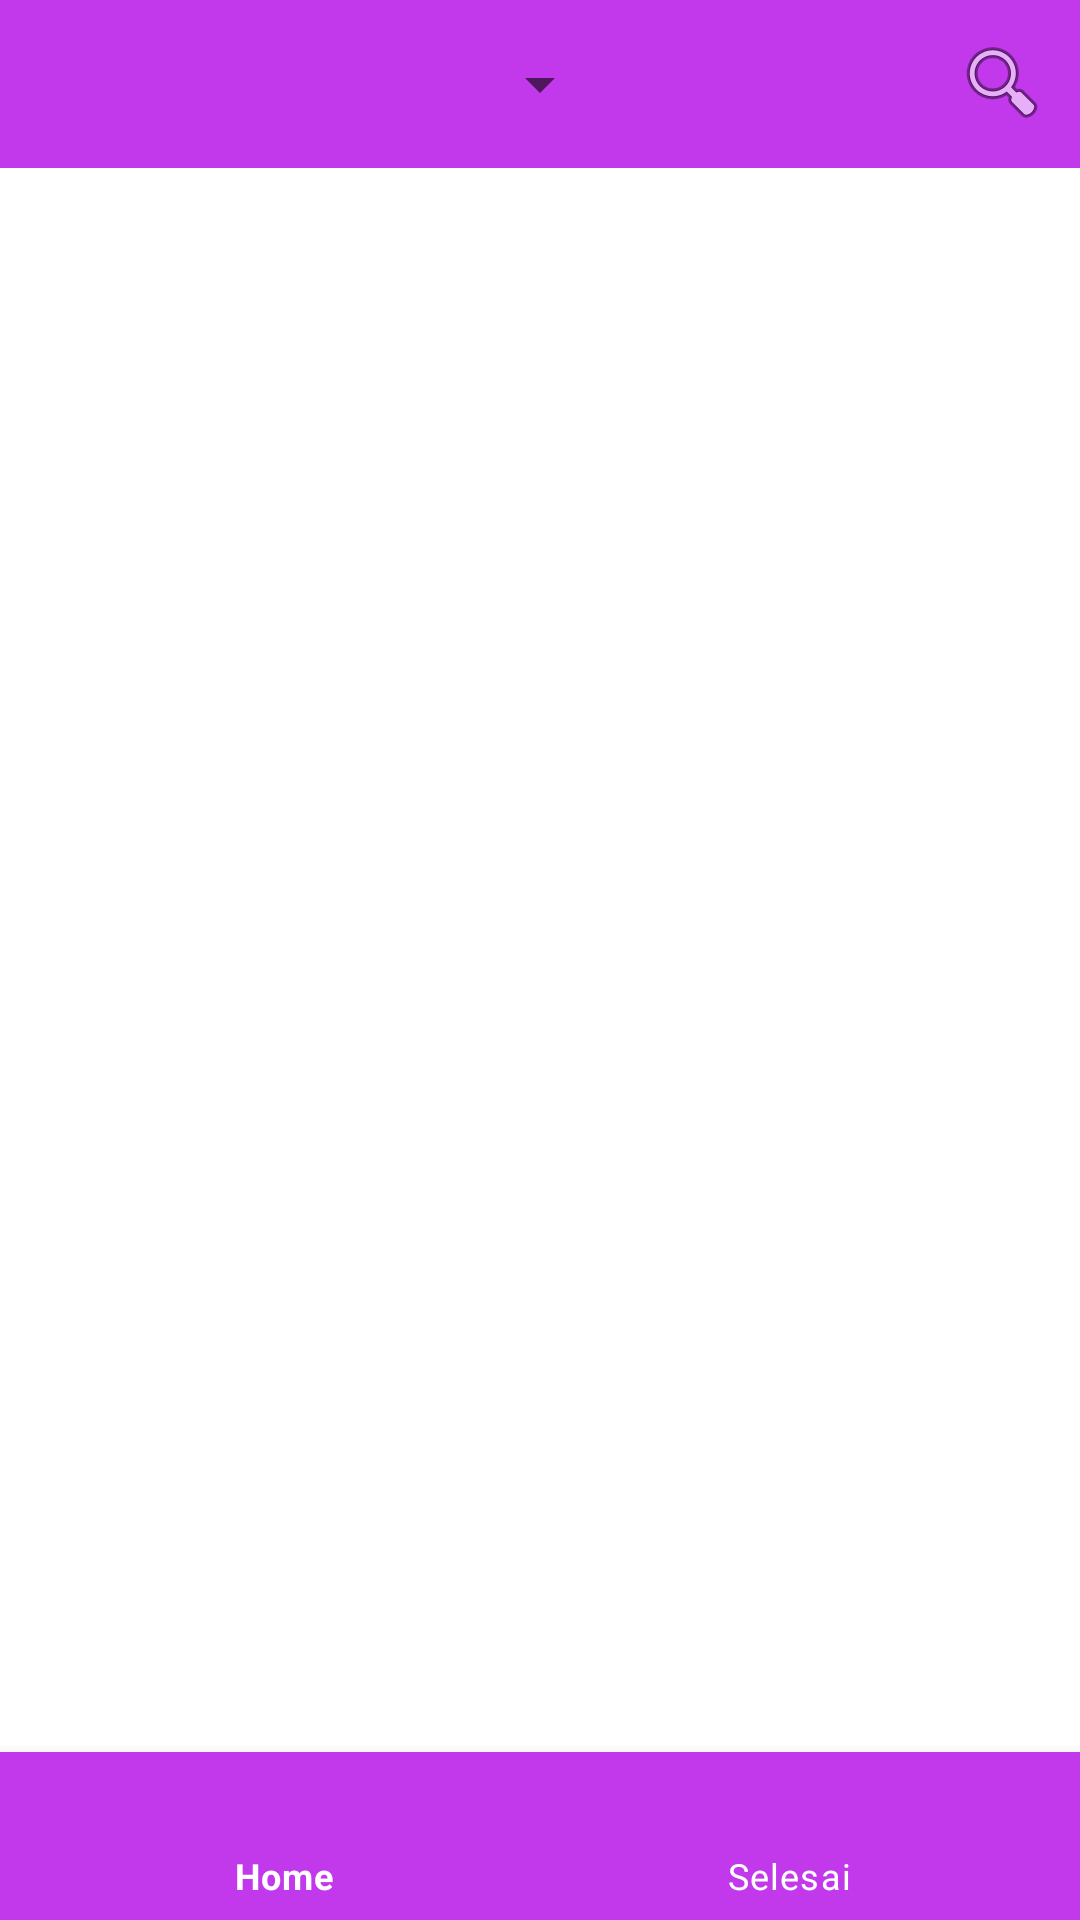

Where to tap for icons on this 1080 × 1920 app screen, as point (x, y):
search: point (1002, 82)
